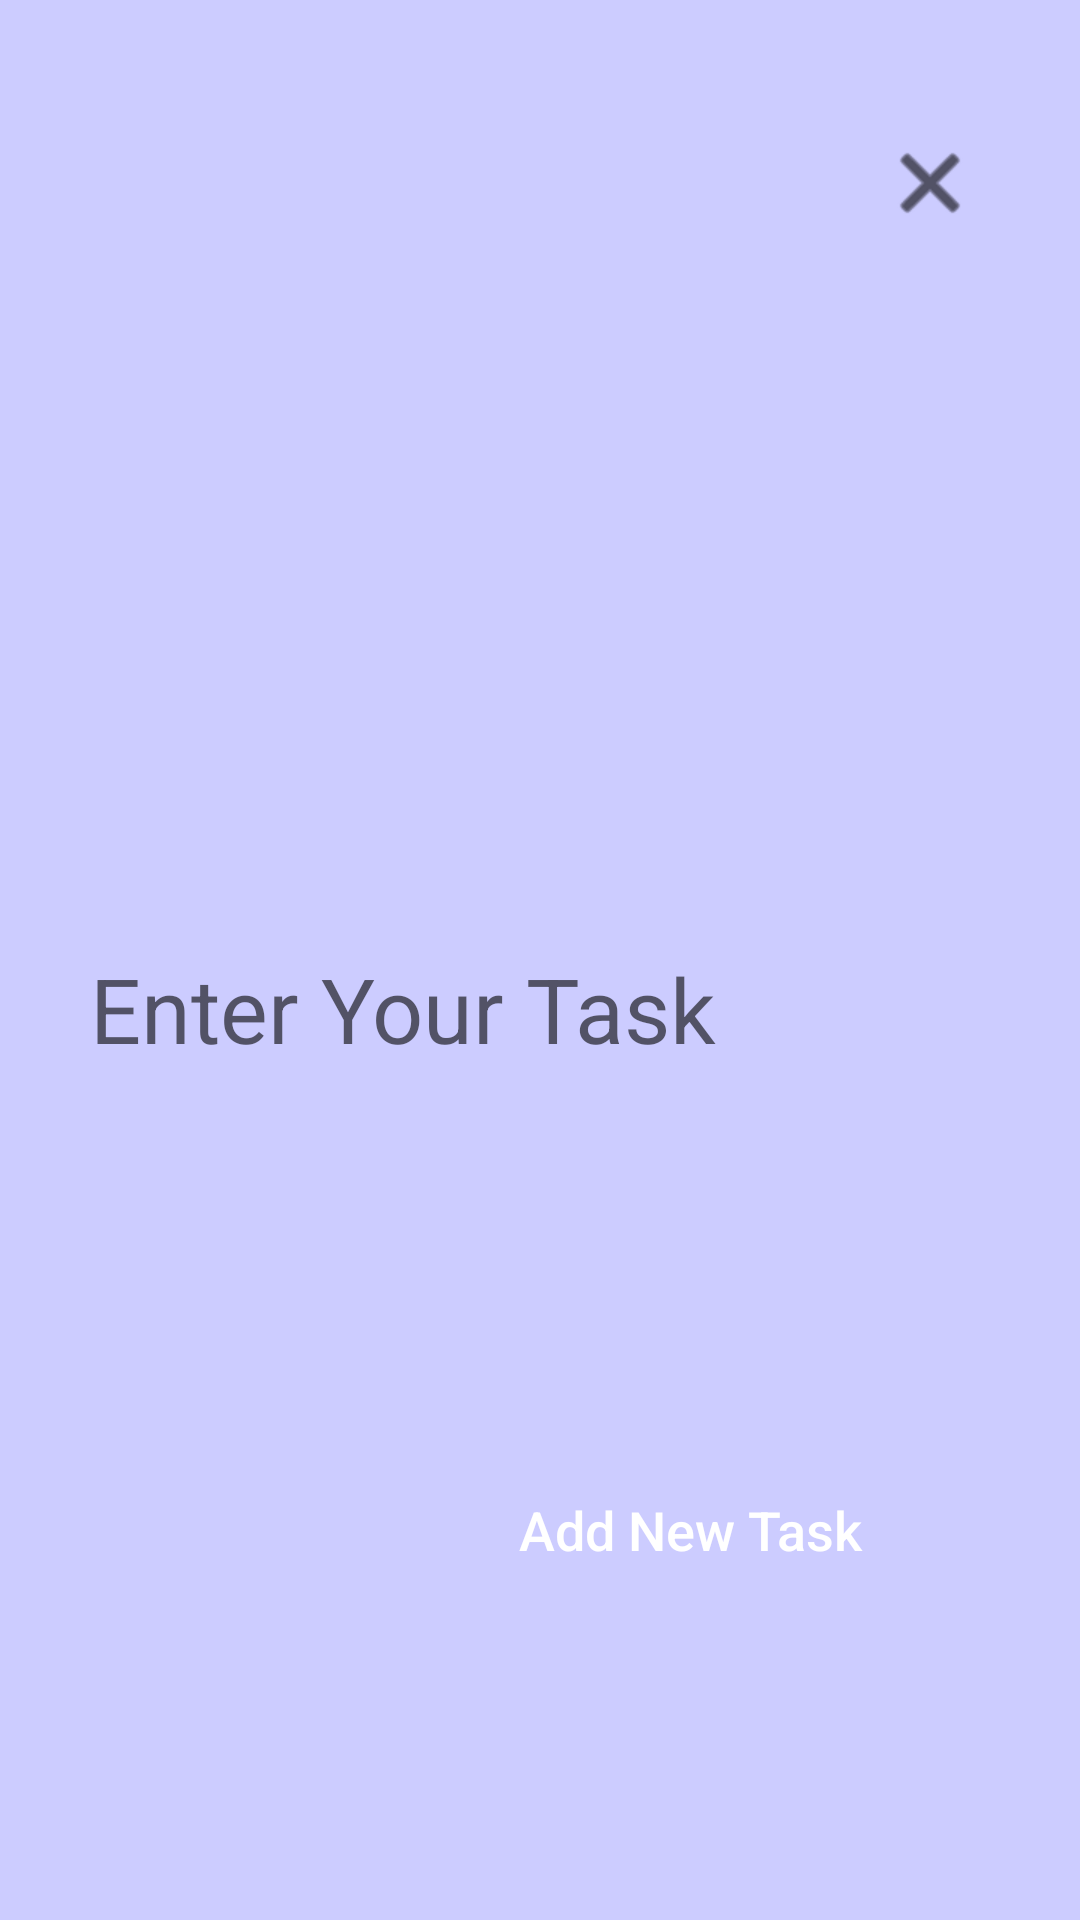

Icon click points for this 1080 x 1920 phone screenshot, format point (x, y):
close clear cancel: point (930, 183)
